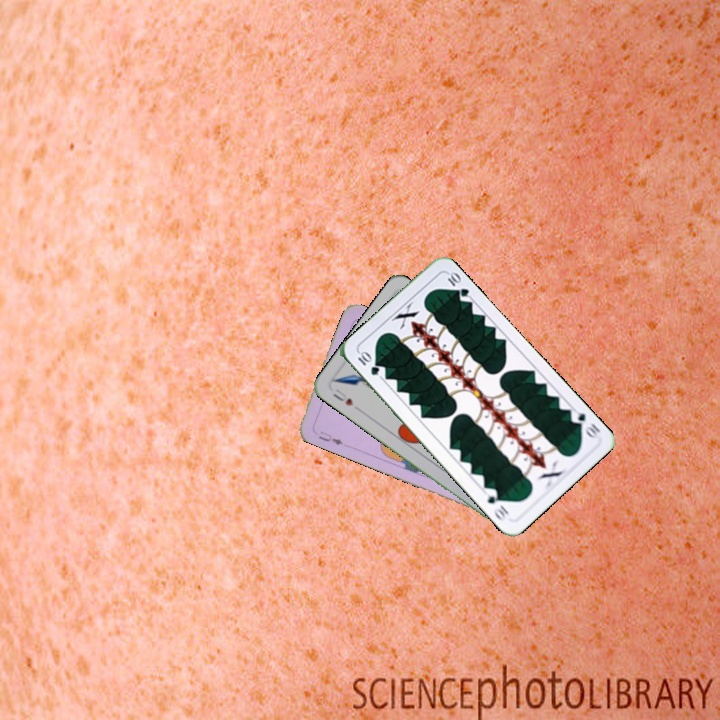EU: (314, 427, 346, 448)
G10: (566, 408, 603, 442), (353, 347, 382, 378)
HU: (329, 385, 356, 408)
